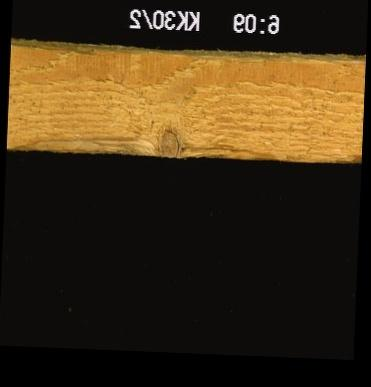sound_knot: (154, 126, 179, 156)
wave: (4, 144, 360, 160)
